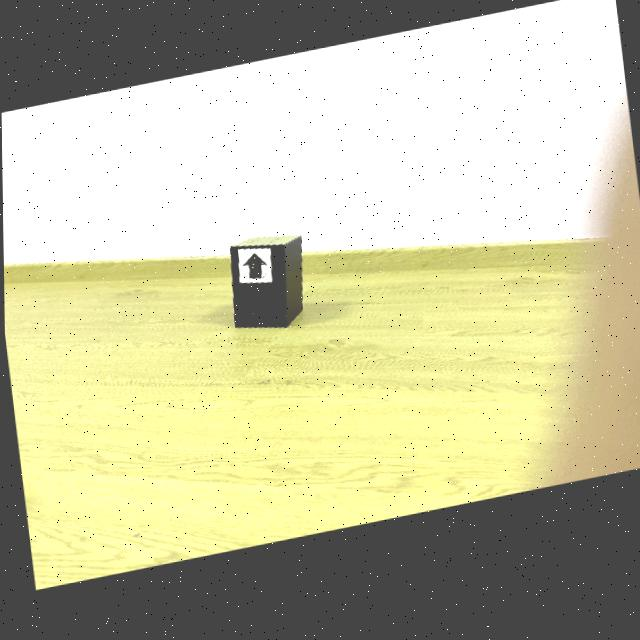UP: (242, 258, 265, 284)
